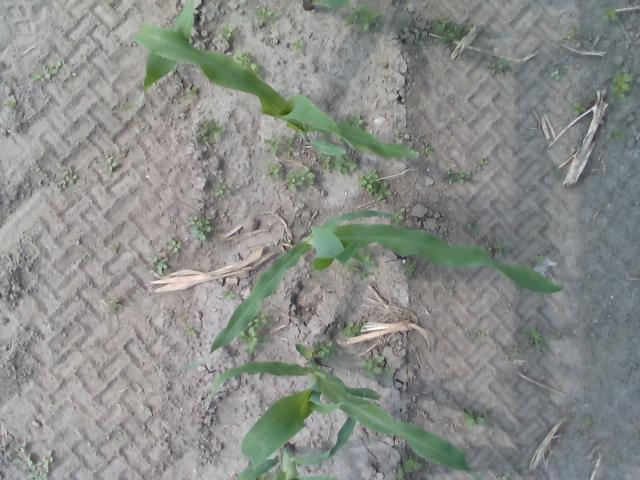Maize: (182, 210, 564, 372), (132, 23, 420, 162), (209, 346, 482, 480), (104, 1, 348, 114), (234, 415, 360, 480)
Weeds: (361, 170, 392, 198), (350, 4, 379, 32), (266, 136, 294, 161), (187, 216, 214, 240), (459, 158, 488, 179), (354, 358, 386, 374), (460, 409, 484, 430), (611, 74, 633, 94), (148, 256, 170, 274), (38, 451, 54, 475), (446, 22, 468, 38), (208, 120, 226, 138), (12, 455, 35, 469), (400, 260, 417, 278), (268, 164, 286, 180), (314, 341, 336, 354), (242, 328, 256, 348), (528, 327, 541, 348), (491, 59, 508, 75), (49, 59, 66, 74), (404, 459, 422, 473), (338, 158, 358, 170), (494, 240, 507, 258), (286, 176, 302, 190), (300, 166, 314, 182), (32, 68, 48, 82), (165, 238, 181, 252), (64, 167, 77, 184), (348, 265, 366, 276), (222, 25, 236, 39), (349, 115, 364, 128), (344, 322, 360, 334), (258, 9, 272, 22), (194, 128, 208, 141), (252, 318, 270, 328), (220, 290, 237, 300), (434, 20, 448, 32), (104, 159, 118, 171), (15, 442, 28, 454), (602, 11, 617, 21), (292, 38, 304, 50), (187, 85, 201, 95), (5, 98, 20, 107), (446, 170, 457, 182), (396, 208, 407, 220), (536, 251, 548, 262), (613, 130, 626, 140), (362, 254, 374, 264), (473, 331, 486, 340), (573, 104, 584, 114), (240, 54, 252, 63), (187, 330, 200, 338), (218, 182, 228, 192), (110, 298, 120, 307), (509, 347, 518, 356), (484, 240, 492, 250), (562, 35, 570, 44), (58, 181, 66, 190), (110, 243, 120, 250), (551, 72, 560, 79), (585, 415, 592, 424), (617, 94, 625, 101), (252, 65, 260, 72), (467, 222, 474, 230)
